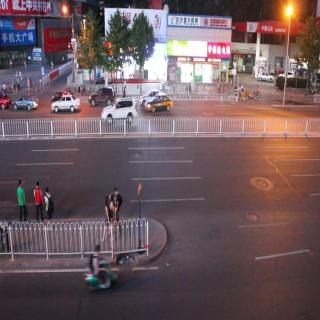Car: (102, 99, 139, 128), (142, 89, 174, 112), (51, 94, 81, 114), (87, 87, 115, 107), (13, 93, 39, 111), (257, 70, 274, 85)
